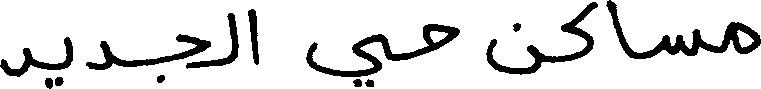X: (307, 29, 384, 88), (487, 18, 539, 79), (563, 0, 596, 66), (423, 19, 459, 58), (608, 0, 630, 62), (178, 29, 207, 73), (664, 24, 699, 60), (732, 17, 760, 58), (0, 43, 30, 81), (89, 36, 112, 74), (250, 4, 259, 69), (229, 8, 236, 68), (64, 32, 71, 73)
